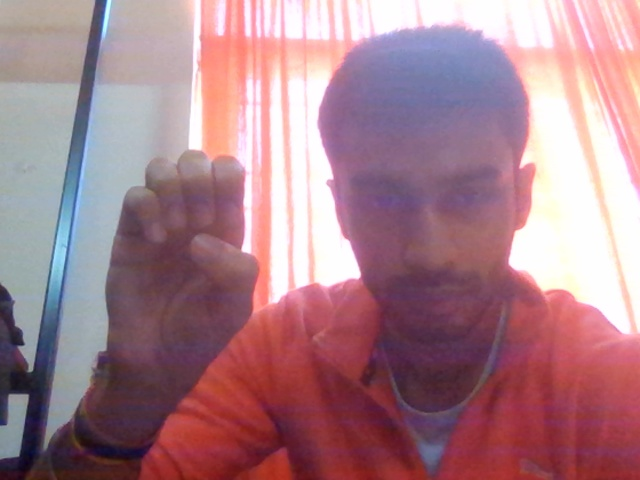E: (87, 129, 276, 424)
